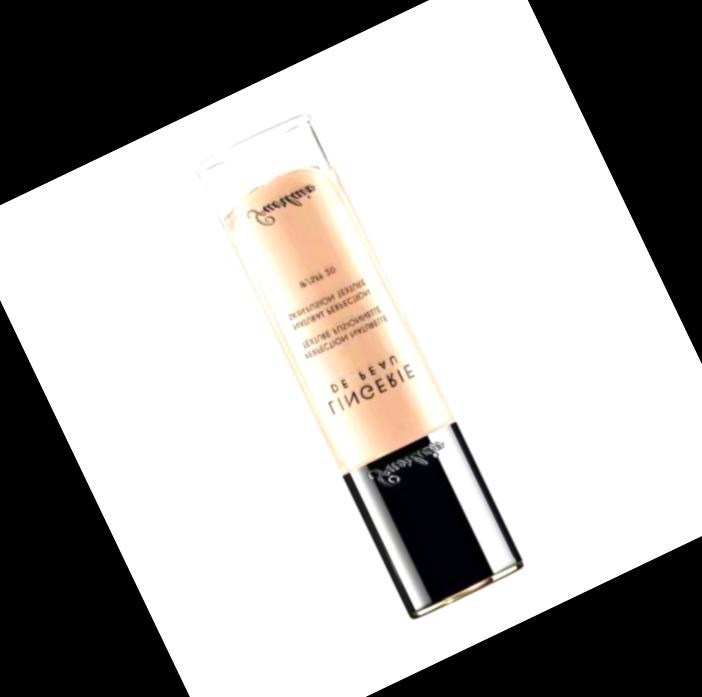cosmetic: (194, 111, 530, 623)
